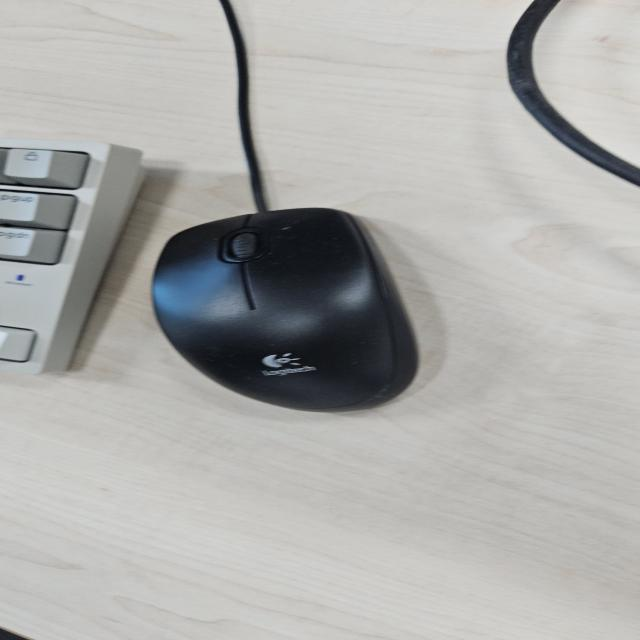Keyboard: (0, 136, 146, 374)
Mouse: (148, 206, 422, 414)
